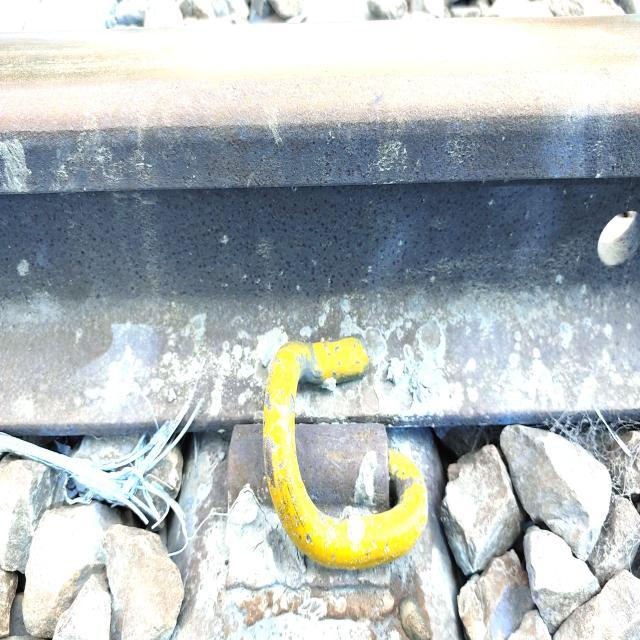Good Fasteners: (212, 329, 434, 608)
